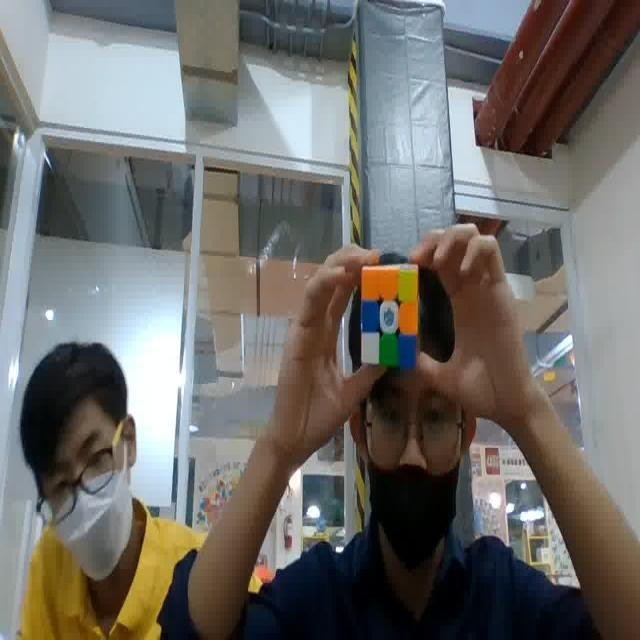Rub: (355, 260, 422, 372)
